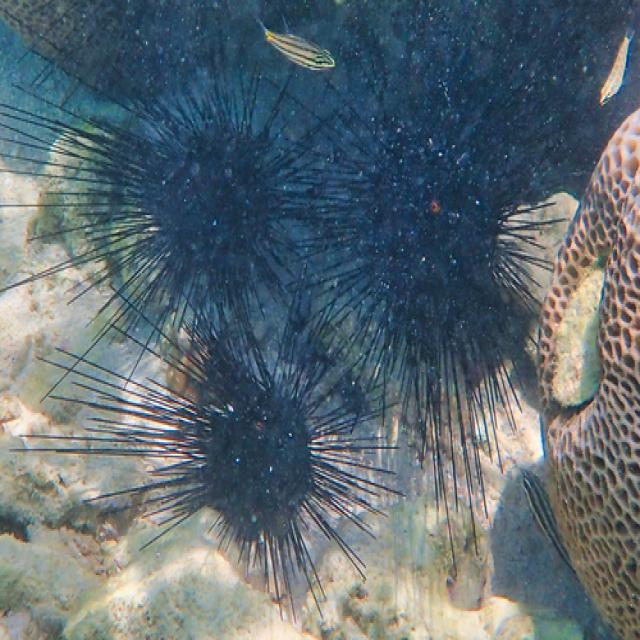Urchin: (283, 26, 568, 572), (36, 276, 406, 620), (1, 20, 333, 333)
